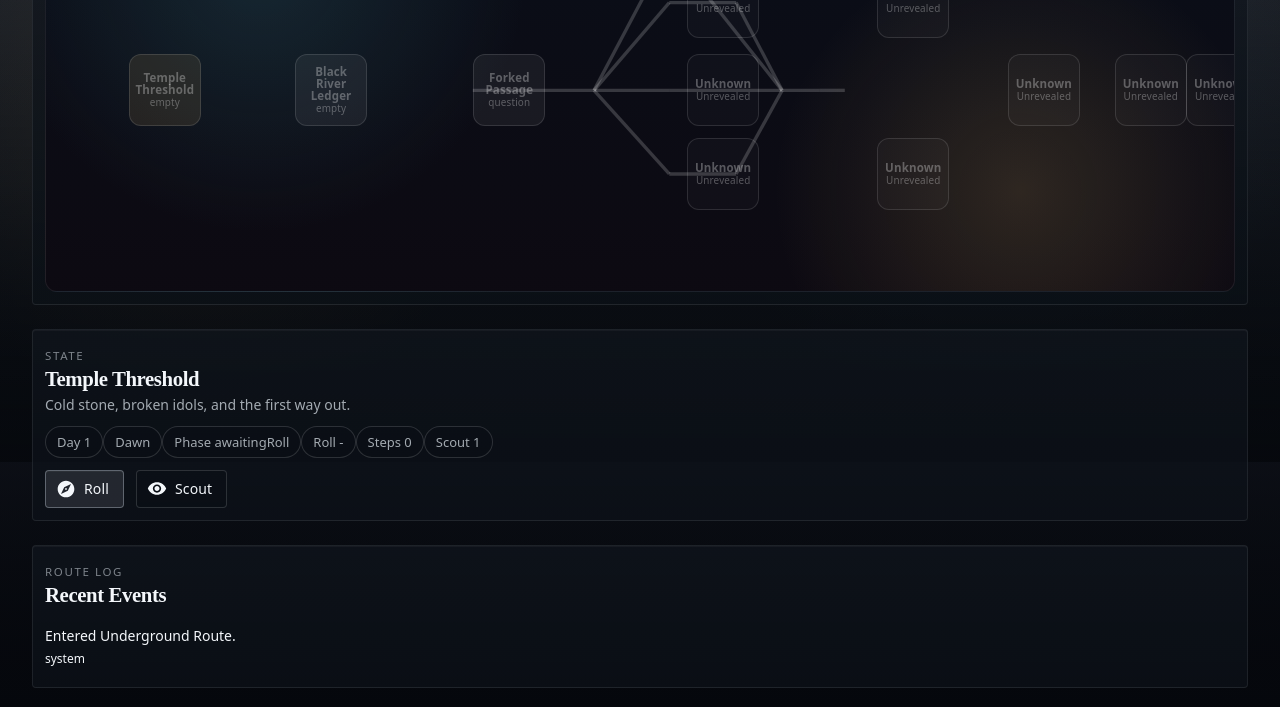
Test case: TravelBoardScreen › opens the travel board demo and exposes branch selection after a roll
The image size is (1280, 707).
(page scrolled)
Expected: the button "Roll" is shown, [45,470,124,508]
Click the button "Scout".
click(182, 489)  # box [136,470,227,508]
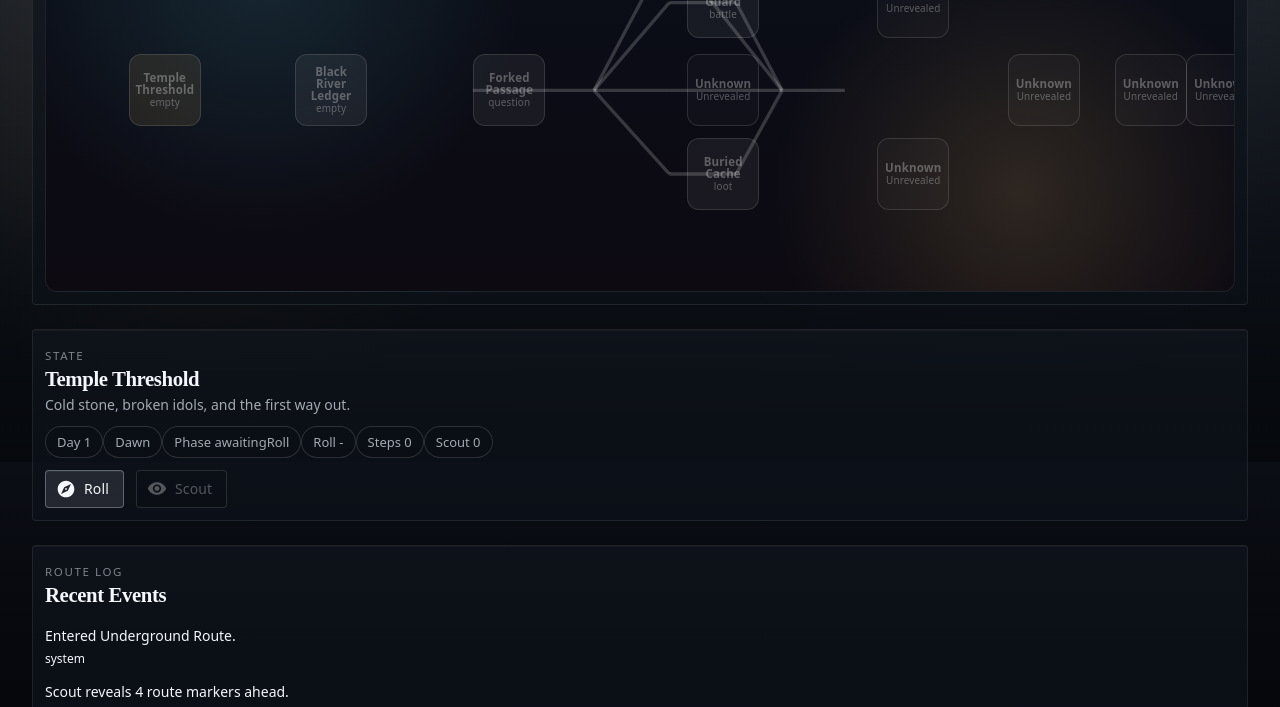
Click the button "Roll".
click(84, 489)  # box [45,470,124,508]
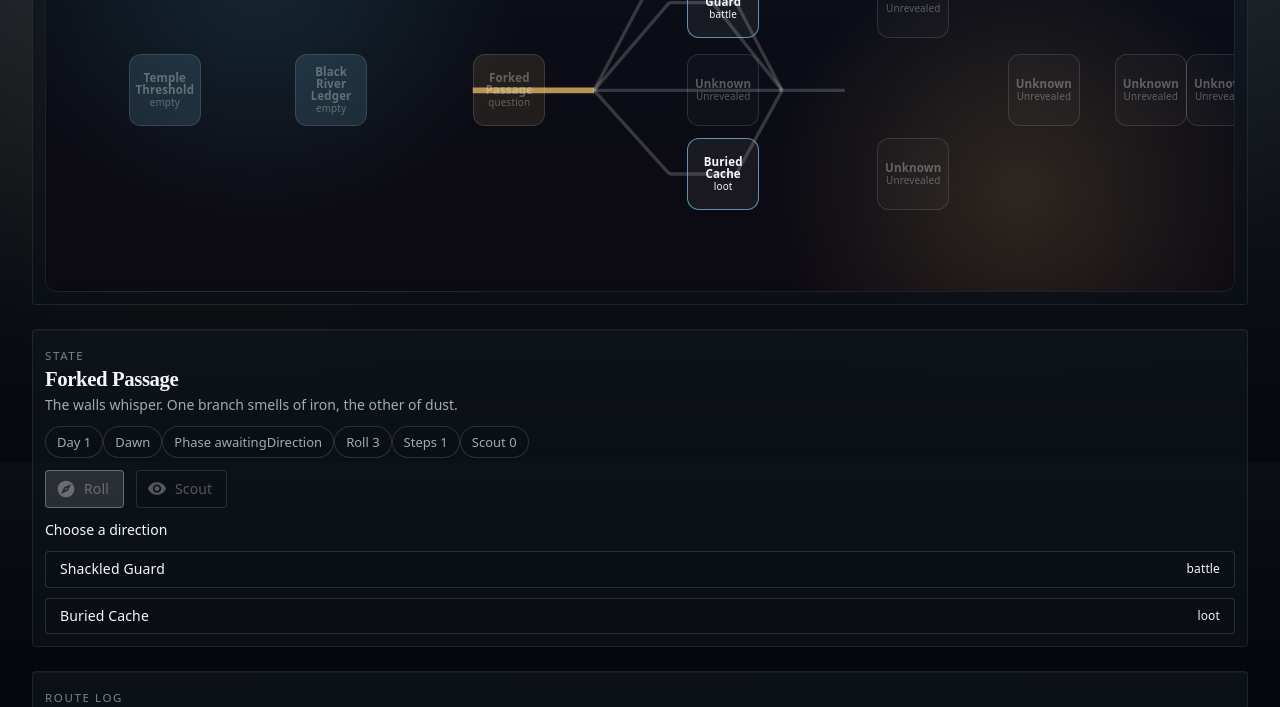
Expected: the 1st button "Buried Cache loot" is shown, [687,138,759,210]
Expected: the heading "Choose a direction" is shown, [45,520,167,539]
